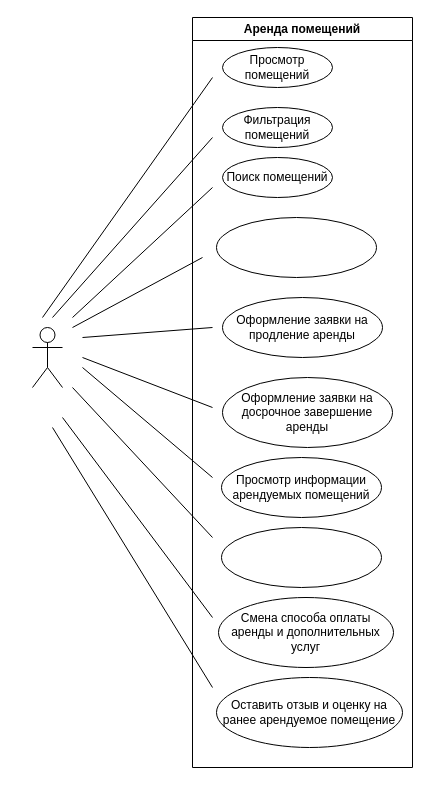
Some shapes in this 430 by 785 pixel diagram are drawn without their labels. The centre of each missing label's shape, as x and y in pixels:
Арендатор: the point at 47,357
Оформление заявки на аренду помещения: the point at 296,247
Оформление заявки на дополнительные услуги: the point at 301,557
